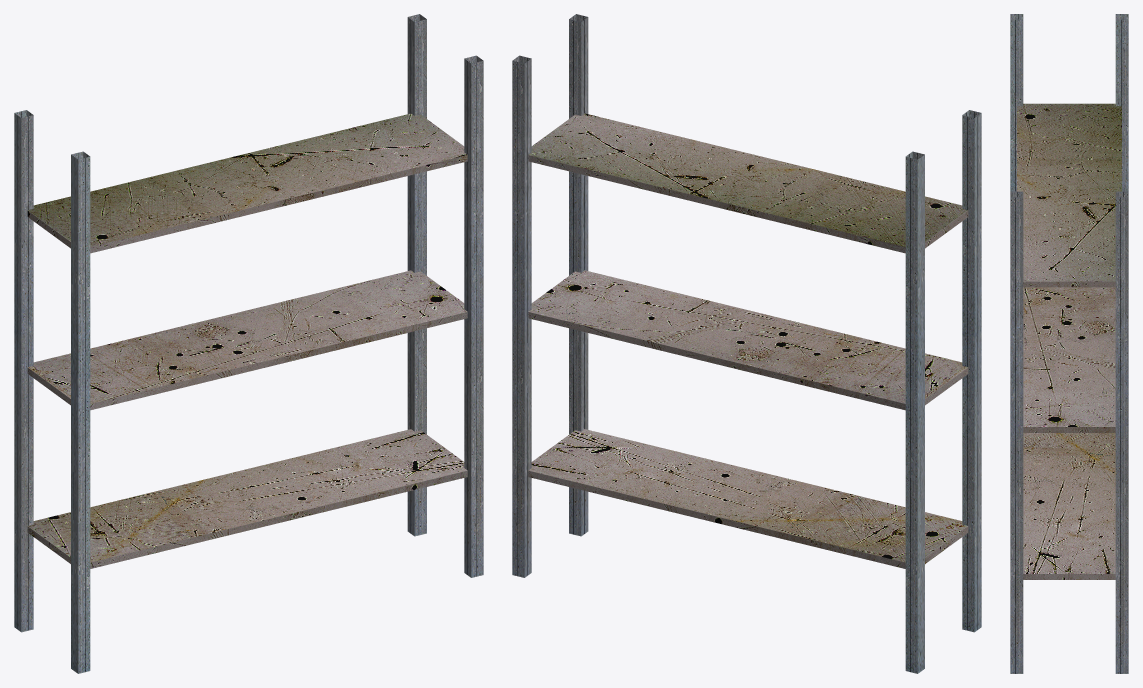
The model's file is regal1.fbx.
3 renders of one model, left to right at view 1: azimuth 30°, elevation 25°; view 2: azimuth 150°, elevation 25°; view 3: azimuth 270°, elevation 25°, orthographic. The views are drawn at different scales.
Visible parts, largest first — view 1: regal1_Layer1; view 2: regal1_Layer1; view 3: regal1_Layer1.
Boxes of the visible parts, left/top/right/bottom form: regal1_Layer1: left=14, top=14, right=483, bottom=673; regal1_Layer1: left=512, top=14, right=981, bottom=673; regal1_Layer1: left=1010, top=14, right=1128, bottom=673.
Size of the model in its own units: 132 by 160 by 36.
Materials: 1 (1 with a texture image).
